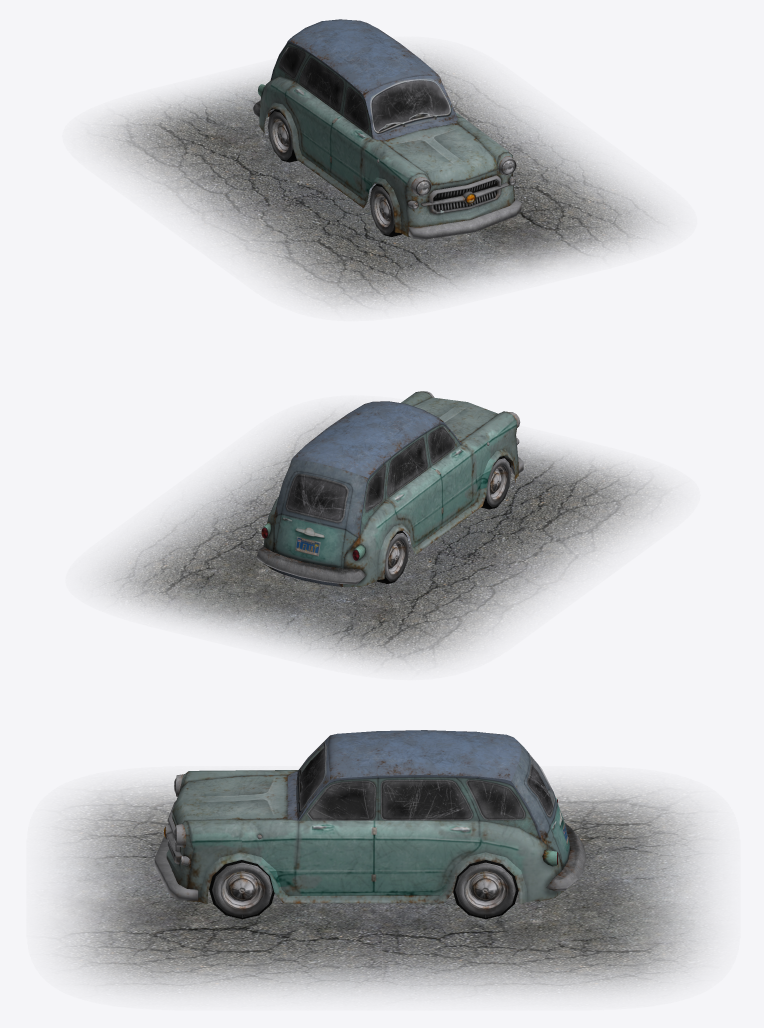
3 views of the same model, one above another, from view 1: azimuth 30°, elevation 25°; view 2: azimuth 150°, elevation 25°; view 3: azimuth 270°, elevation 25° (orthographic). The views are drawn at different scales.
Parts seen in each view (by area): view 1: Plane001, Object003_01 - Default_0, Object004_03 - Default_0; view 2: Plane001, Object003_01 - Default_0, Object004_03 - Default_0; view 3: Plane001, Object003_01 - Default_0, Object004_03 - Default_0.
Part boxes in pixels (x1,y1,x2,y2): Plane001: (97,51,661,306); Object003_01 - Default_0: (252,19,521,239); Object004_03 - Default_0: (279,47,449,130); Plane001: (100,410,665,665); Object003_01 - Default_0: (256,391,523,587); Object004_03 - Default_0: (286,427,454,522); Plane001: (59,782,706,993); Object003_01 - Default_0: (154,730,586,919); Object004_03 - Default_0: (300,748,553,820).
Size of the model in its own units: 229 by 62.09 by 285.
Materials: 3 (2 with a texture image).
